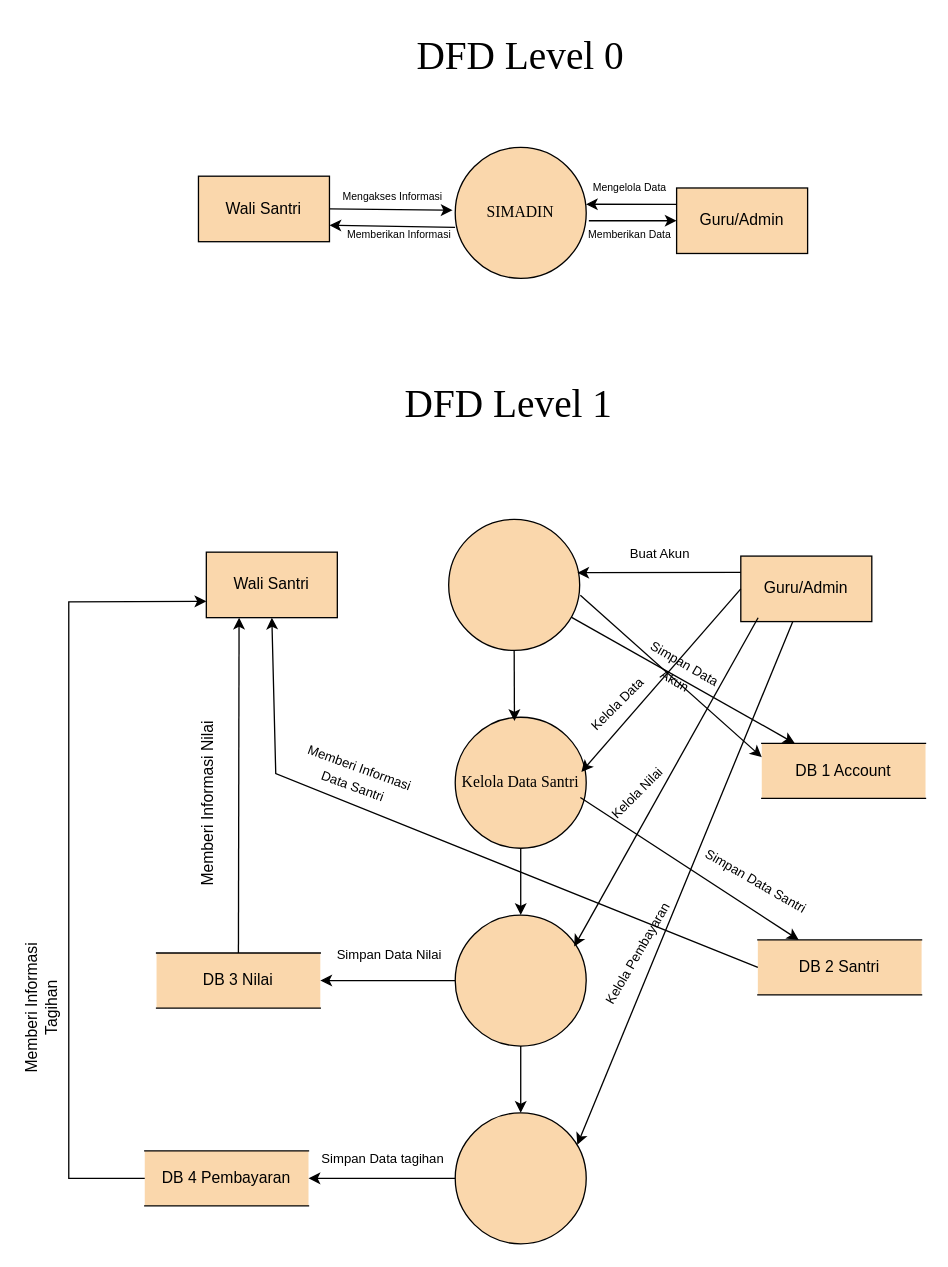
This 948x1267 diagram has some shape labels left out. Each missing label, with the centre of its shape:
"Create Account" belongs at pixel 513 584.
"Kelola Nilai & Rapot" belongs at pixel 520 980.
"Kelola Pembayaran Tagihan" belongs at pixel 520 1178.
